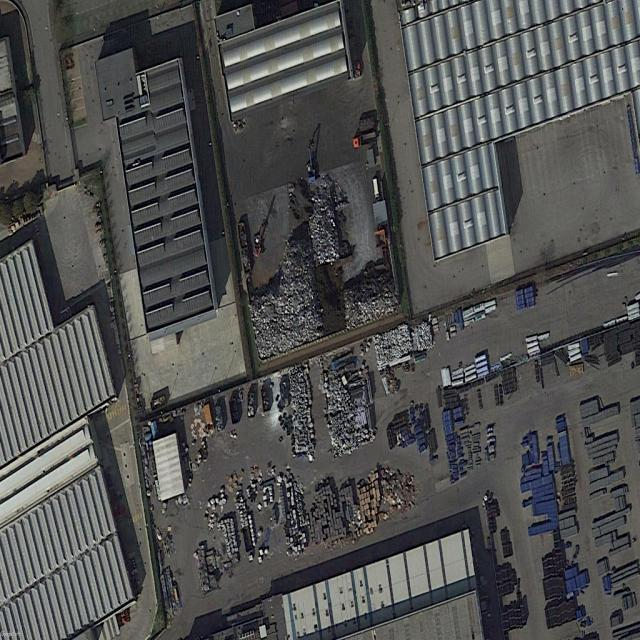dump_site: (189, 406, 425, 598), (241, 219, 326, 360), (319, 347, 381, 462), (303, 168, 344, 270), (342, 264, 400, 332), (284, 359, 319, 464), (373, 322, 415, 372), (410, 316, 437, 356), (378, 370, 402, 402), (261, 387, 270, 413), (247, 393, 255, 418)
